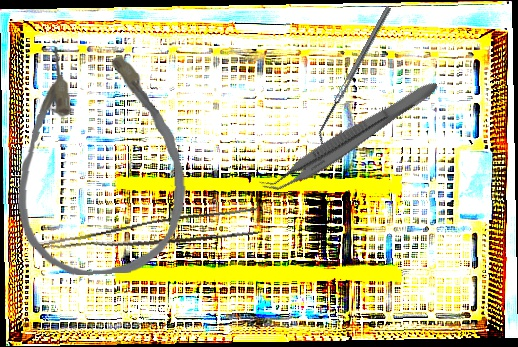Cannula: (8, 40, 191, 279)
Spatula Surgical: (312, 5, 397, 145)
Tissue Forceps: (258, 68, 442, 205), (34, 200, 263, 276)
